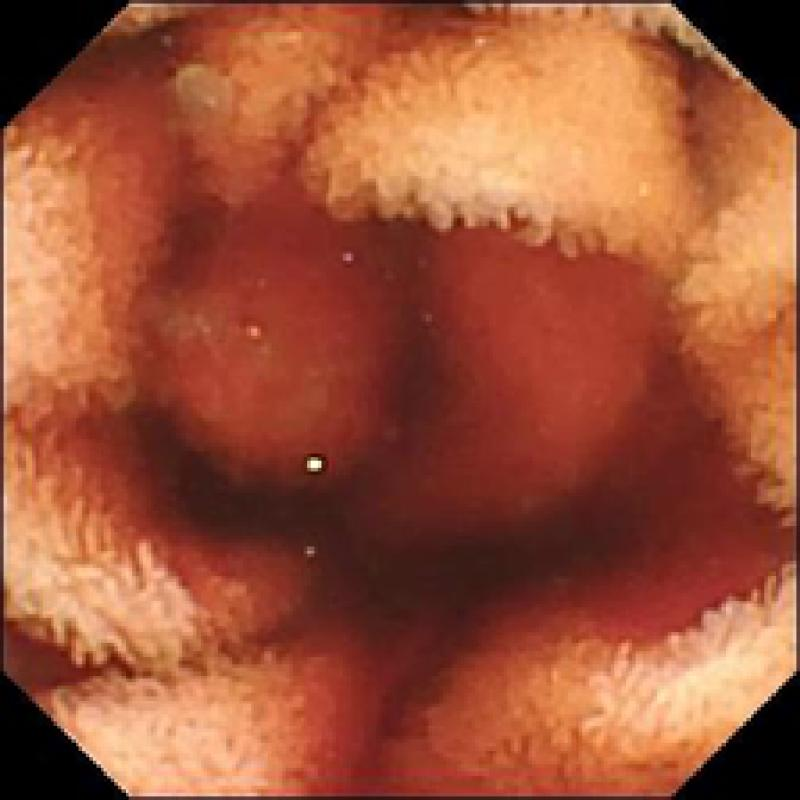bleeding: (16, 90, 800, 790), (358, 33, 411, 79)
